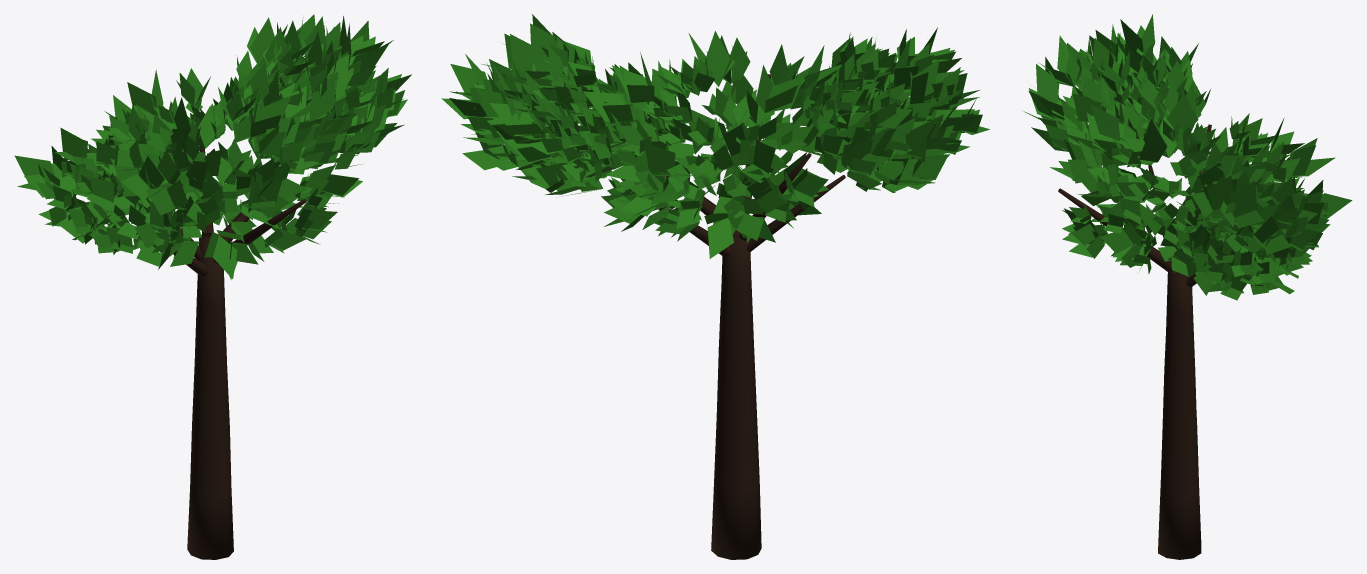
Rendered from Tree_08_C_LOD0.obj.
The picture shows the model from 3 angles, left to right: view 1: azimuth 30°, elevation 25°; view 2: azimuth 150°, elevation 25°; view 3: azimuth 270°, elevation 25°; orthographic projection. The views are drawn at different scales.
Parts seen in each view (by area): view 1: Leaves, Trunk; view 2: Leaves, Trunk; view 3: Leaves, Trunk.
Part boxes in pixels (left/top/right/bottom): Leaves: left=14, top=14, right=411, bottom=279; Trunk: left=173, top=146, right=306, bottom=559; Leaves: left=441, top=14, right=990, bottom=258; Trunk: left=659, top=74, right=845, bottom=559; Leaves: left=1023, top=14, right=1352, bottom=300; Trunk: left=1058, top=124, right=1211, bottom=559.
Bounding box in the file's own units: 7.47 × 8.07 × 5.27.
